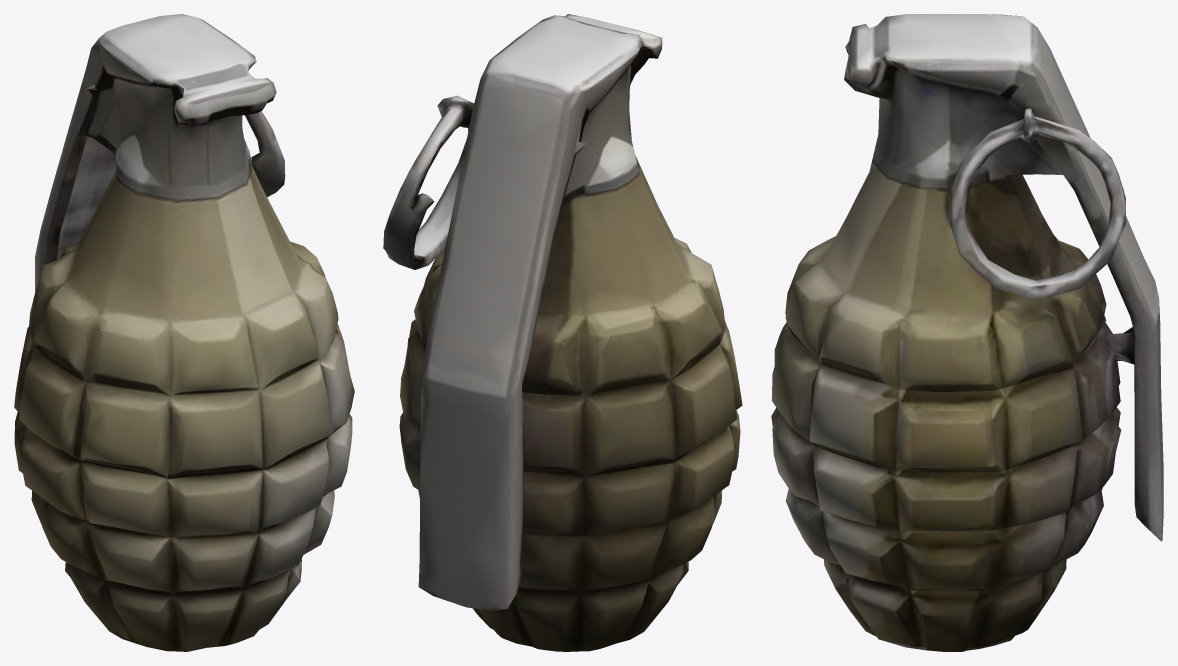
Rendered from grenade.glb.
The picture shows the model from 3 angles, left to right: view 1: azimuth 30°, elevation 25°; view 2: azimuth 150°, elevation 25°; view 3: azimuth 270°, elevation 25°; orthographic projection. The views are drawn at different scales.
Parts seen in each view (by area): view 1: world; view 2: world; view 3: world.
Part boxes in pixels (bbox=[...]): world: bbox=[14, 14, 354, 651]; world: bbox=[383, 14, 742, 651]; world: bbox=[771, 14, 1163, 651].
Size of the model in its own units: 0.0627 by 0.115 by 0.0697.
1 material, 1 textured.
